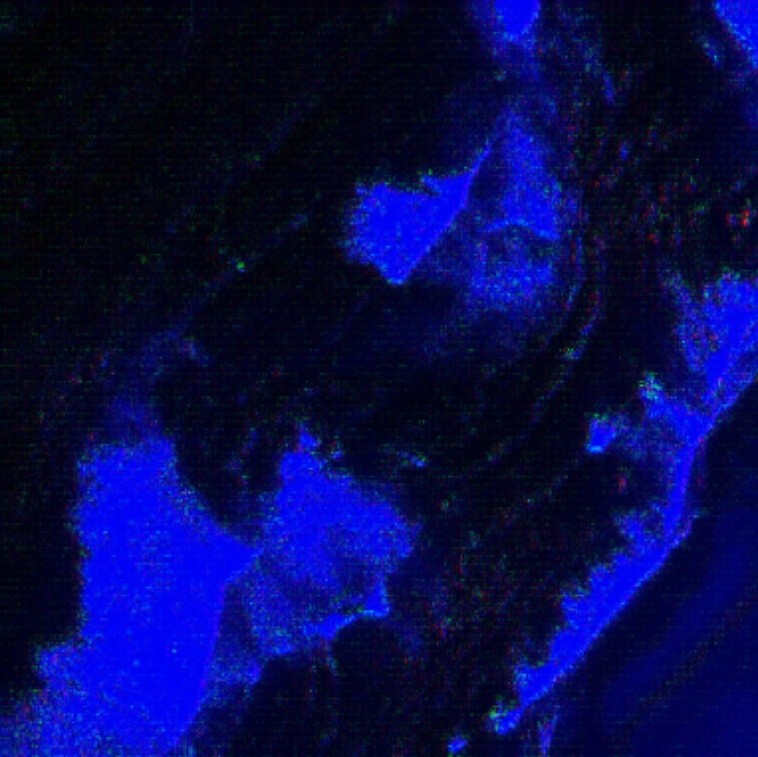rip_current: (127, 196, 666, 566)
